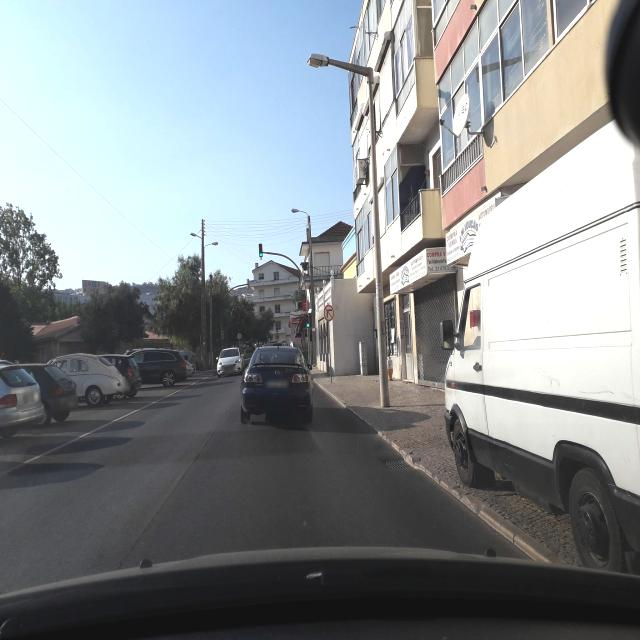car: (439, 102, 640, 584), (239, 344, 314, 426), (10, 363, 79, 425), (47, 354, 125, 407), (0, 362, 46, 448), (126, 348, 187, 388), (97, 354, 142, 398), (216, 347, 244, 378), (178, 350, 197, 378)
